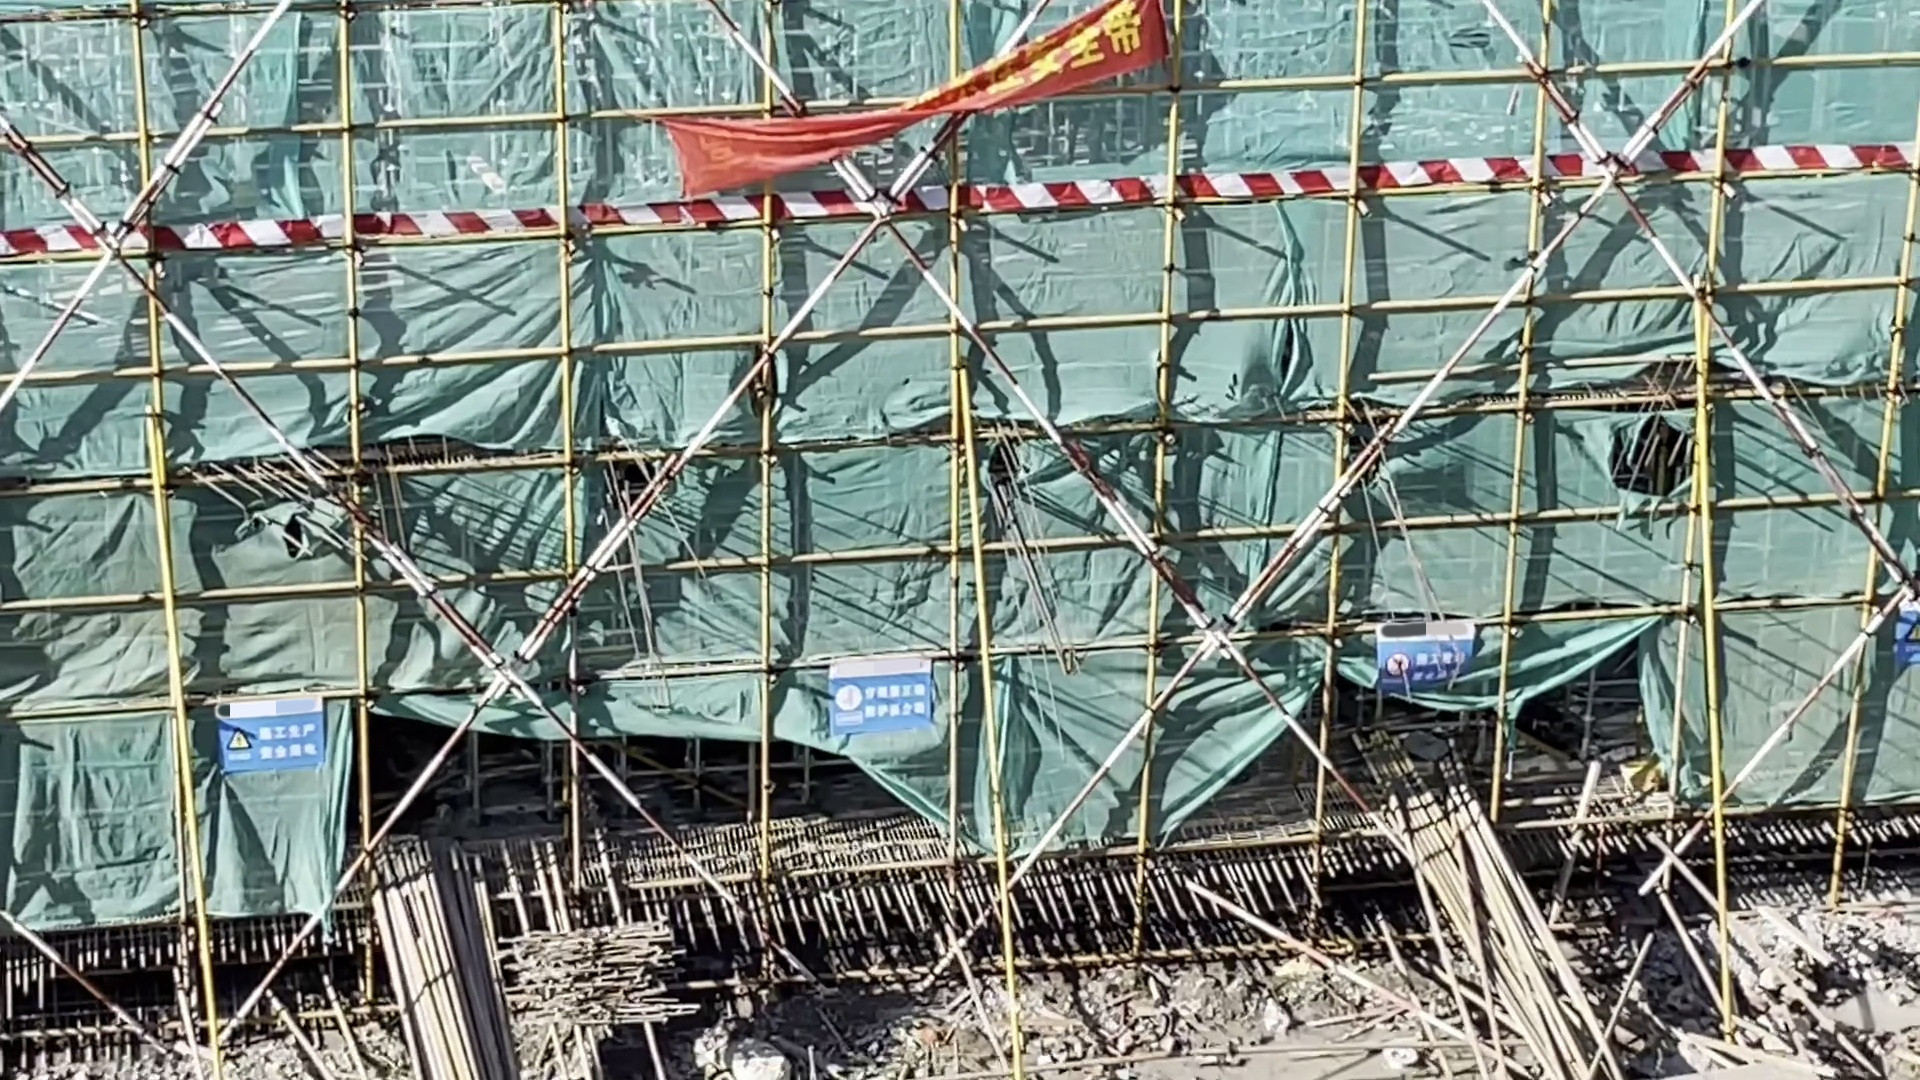slogan: (663, 1, 1174, 233), (203, 673, 348, 786), (1364, 612, 1511, 709), (819, 640, 953, 724)
